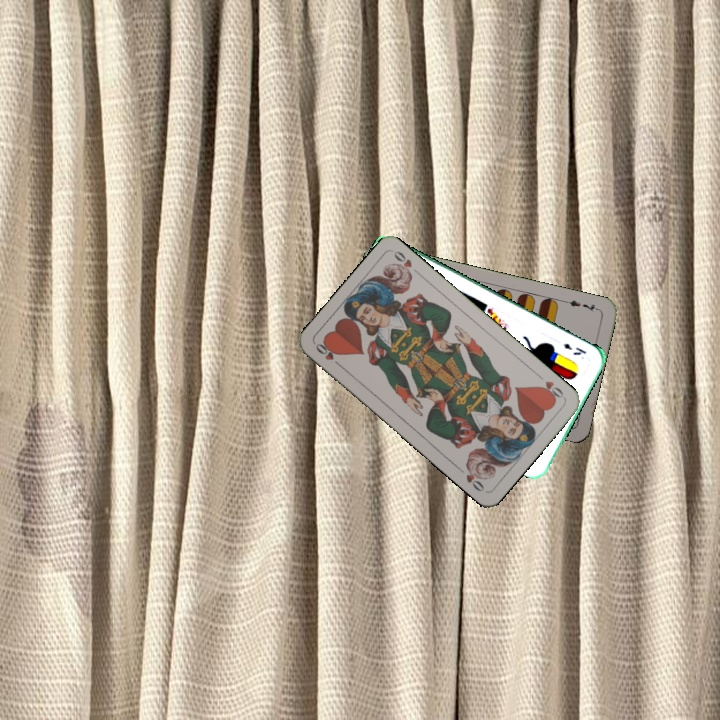E7: (562, 296, 602, 314)
EK: (559, 339, 588, 358)
HO: (533, 370, 567, 403), (311, 339, 345, 370)
